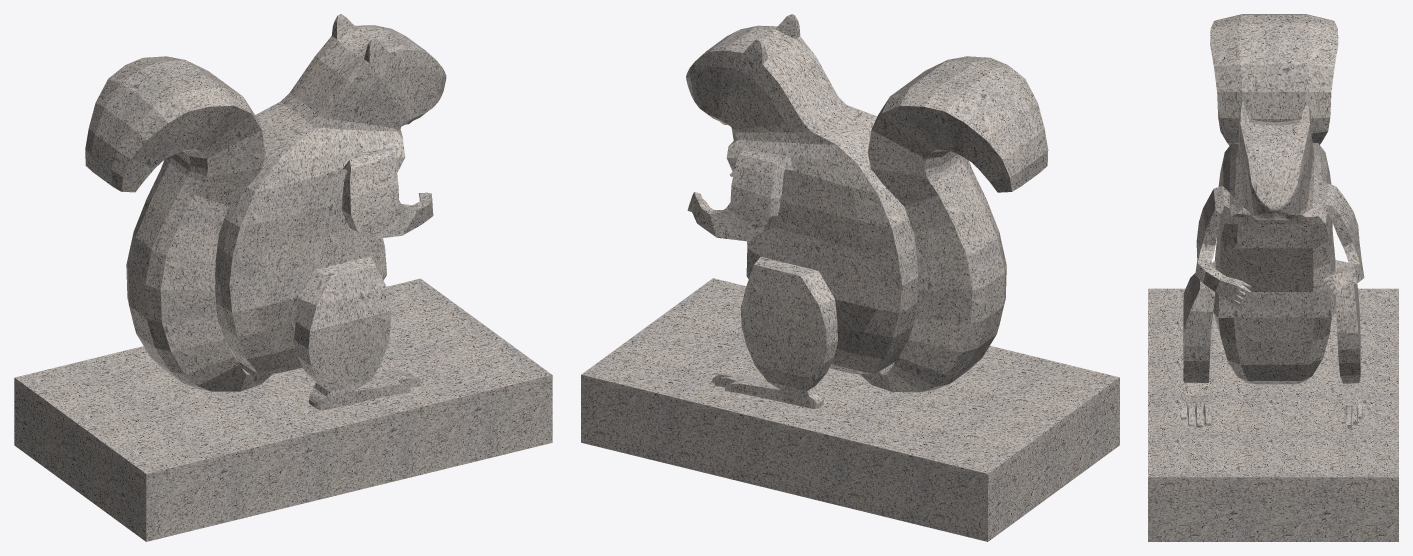
Rendered from squirrelStatue.fbx.
The picture shows the model from 3 angles, left to right: view 1: azimuth 30°, elevation 25°; view 2: azimuth 150°, elevation 25°; view 3: azimuth 270°, elevation 25°; orthographic projection. The views are drawn at different scales.
Visible parts, largest first — view 1: base; view 2: base; view 3: base.
Part boxes in pixels (box(x1,y1,x2,y2)): base: box(14, 14, 552, 541); base: box(581, 14, 1119, 541); base: box(1148, 14, 1398, 541).
Bounding box in the file's own units: 196 × 184 × 110.
